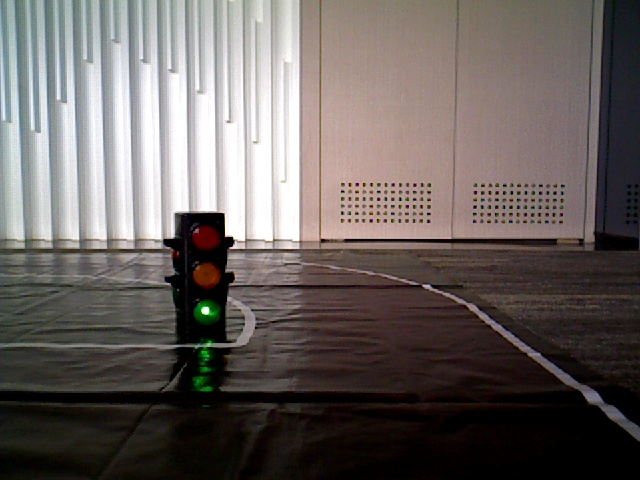green: (178, 217, 222, 337)
